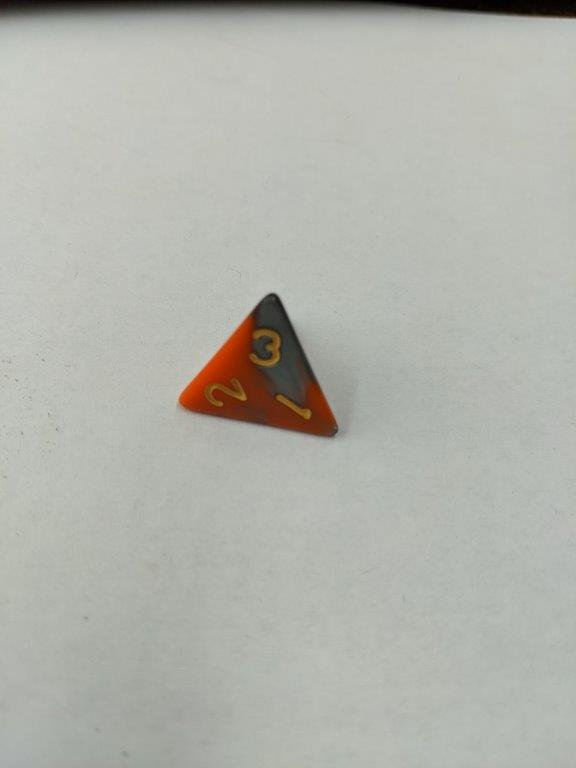d4-3: (181, 292, 340, 446)
